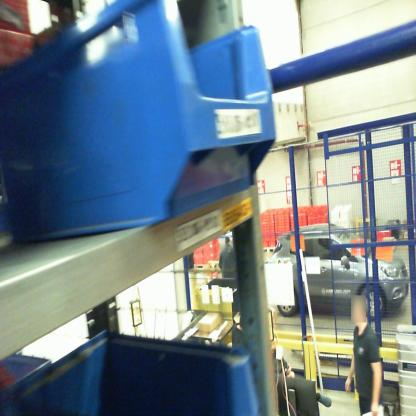small_load_carrier: (374, 225, 392, 243)
